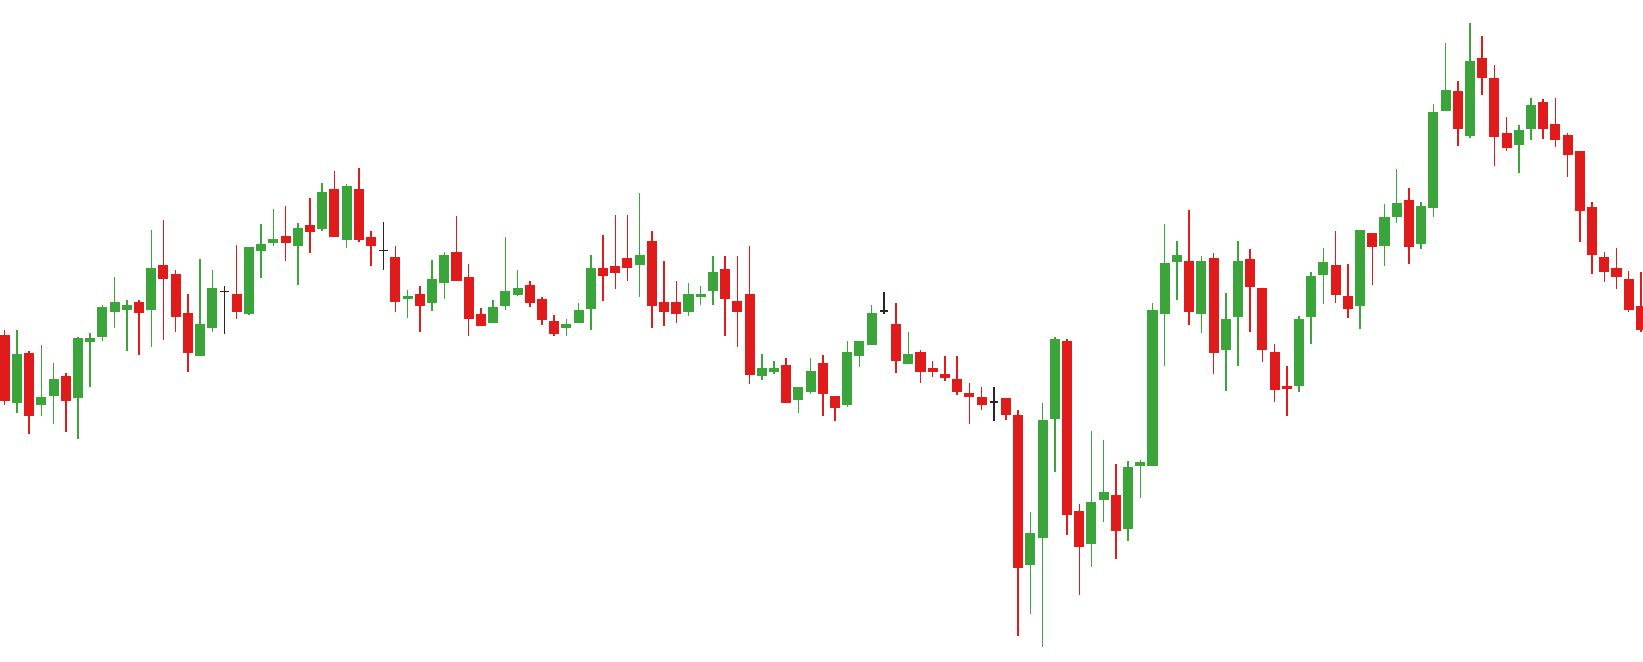buy: (1219, 286, 1306, 417), (122, 279, 204, 374)
